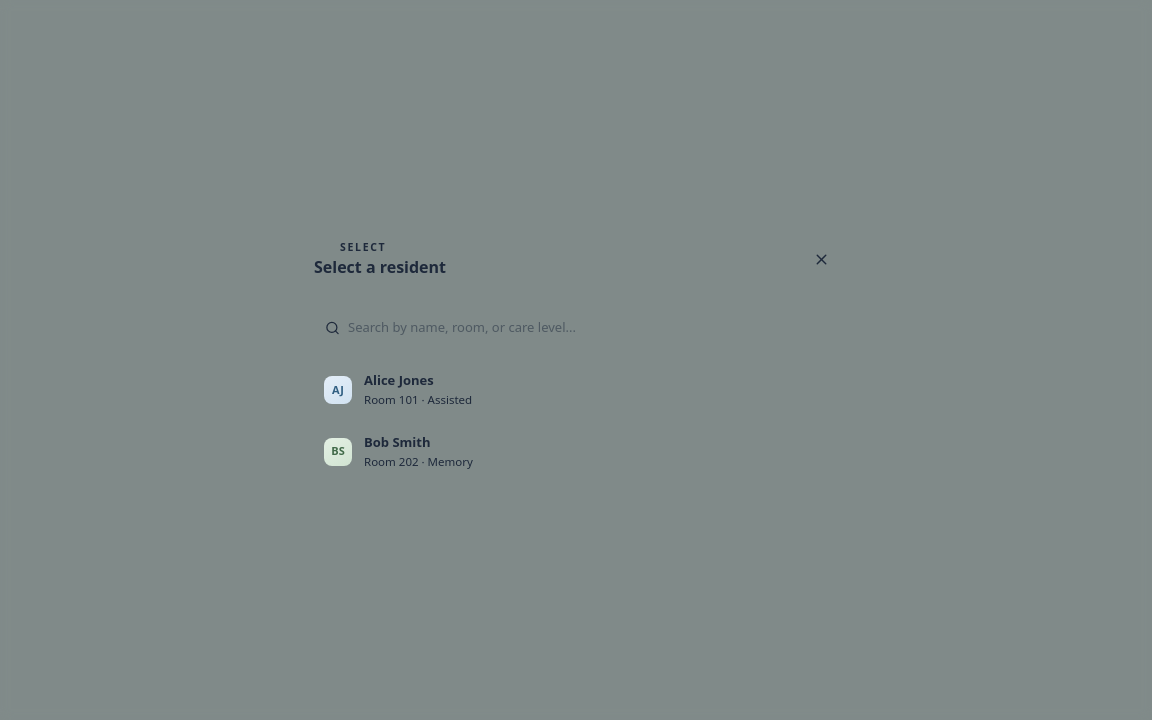
Test case: ResidentPickerModal › filters by 202
expect the text "Alice Jones" is shown: met, box [364,371,434,389]
Type "202" into the field named "Search residents" at (484,328), box [314,309,654,347]
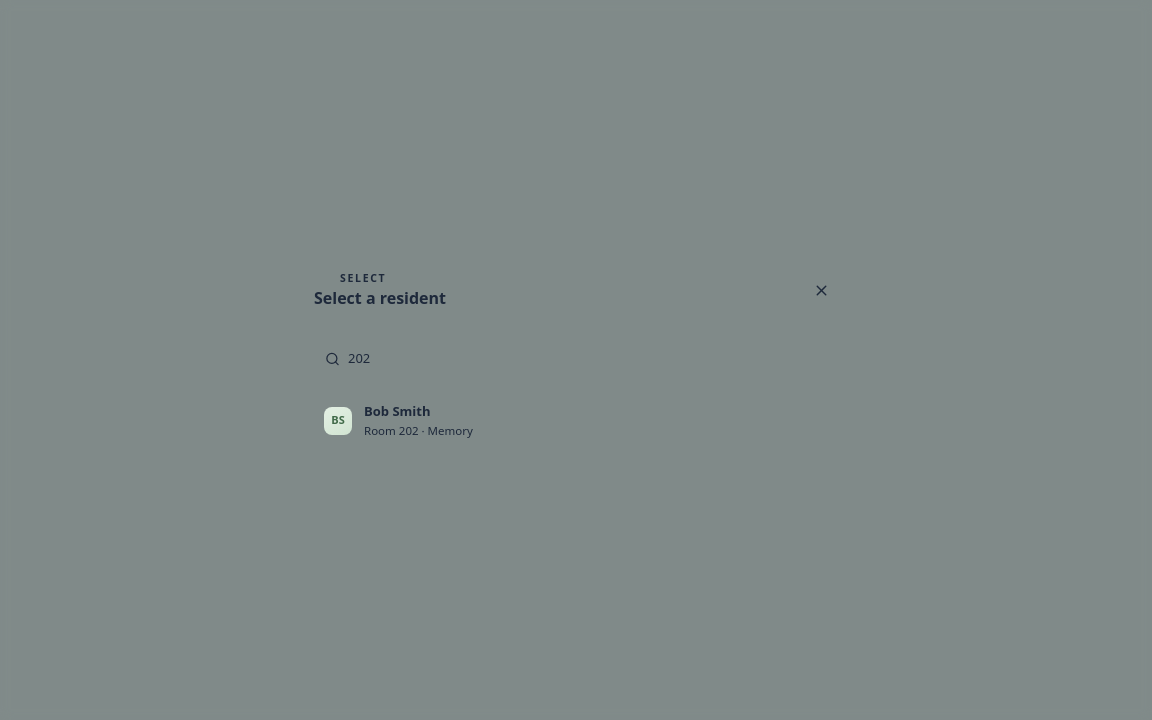
expect the text "Bob Smith" is shown: met, box [364,402,430,420]
expect the number of buttons "BS Bob Smith Room 202 · Memory" is 1: met, box [306,390,846,452]
